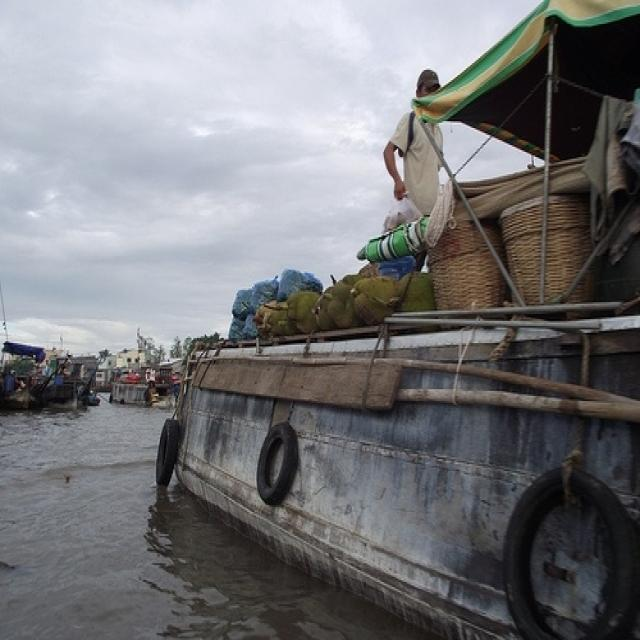boat: (109, 380, 154, 414)
